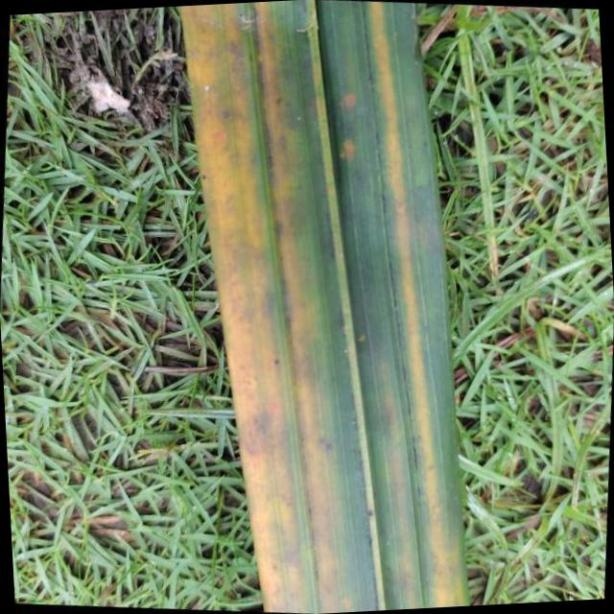Megnesium: (176, 0, 470, 614)
